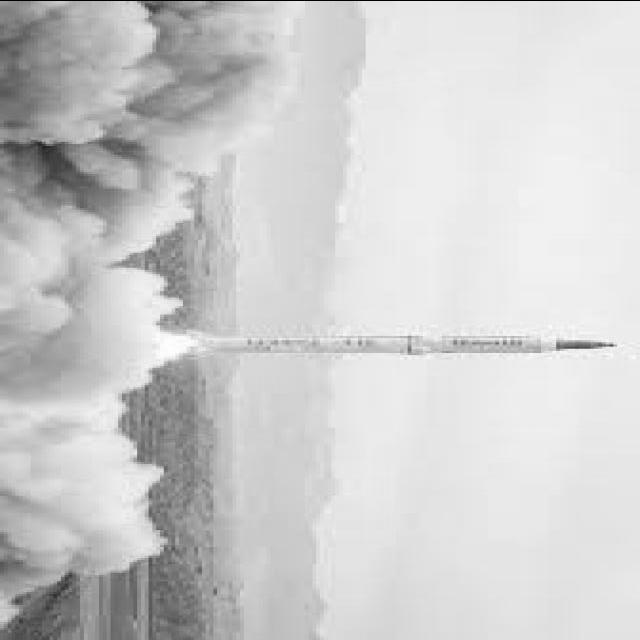missile: (174, 329, 627, 361)
